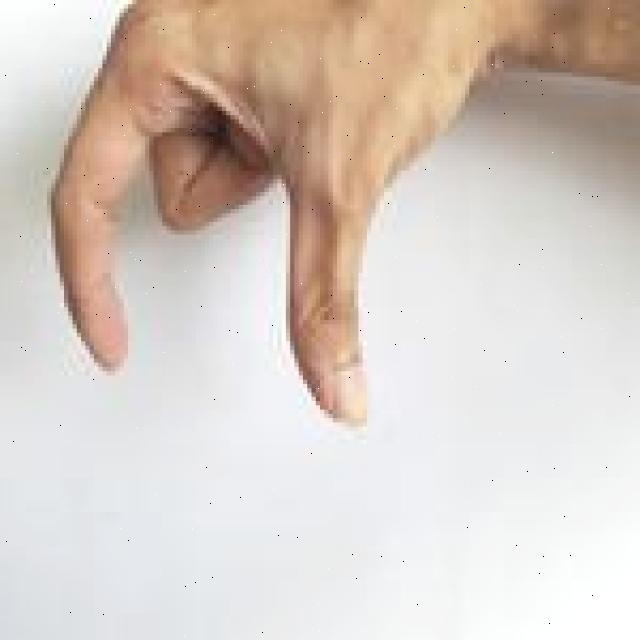Q: (45, 0, 528, 443)
